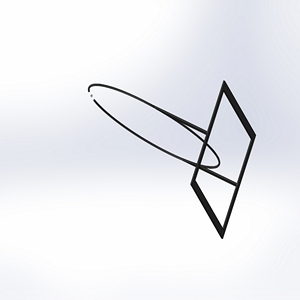circle: (85, 78, 257, 239)
